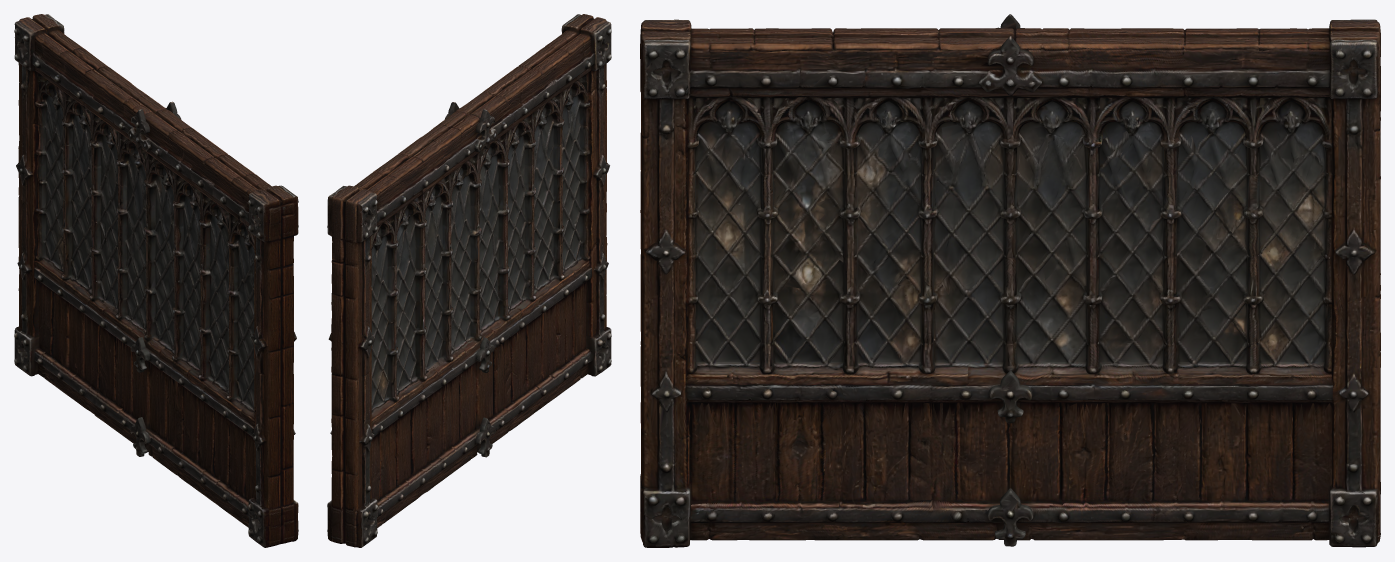
File: raw_boothwindow.glb
3 views of the same model, side by side, from view 1: azimuth 30°, elevation 25°; view 2: azimuth 150°, elevation 25°; view 3: azimuth 270°, elevation 25° (orthographic). The views are drawn at different scales.
Visible parts, largest first — view 1: boothwindow; view 2: boothwindow; view 3: boothwindow.
Boxes of the visible parts, box(x1,y1,x2,y2) form: boothwindow: box(14, 14, 298, 547); boothwindow: box(327, 14, 611, 547); boothwindow: box(640, 14, 1380, 547).
Bounding box in the file's own units: 0.0927 × 0.7618 × 1.
1 material, 1 textured.
